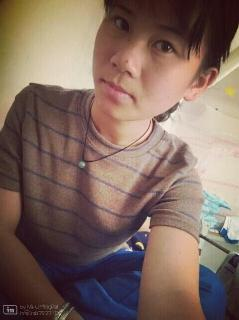short sleeve top: (0, 83, 206, 266)
trousers: (0, 246, 227, 319)
